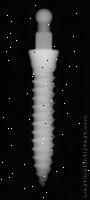OCO Biomedical: (22, 9, 61, 187)
